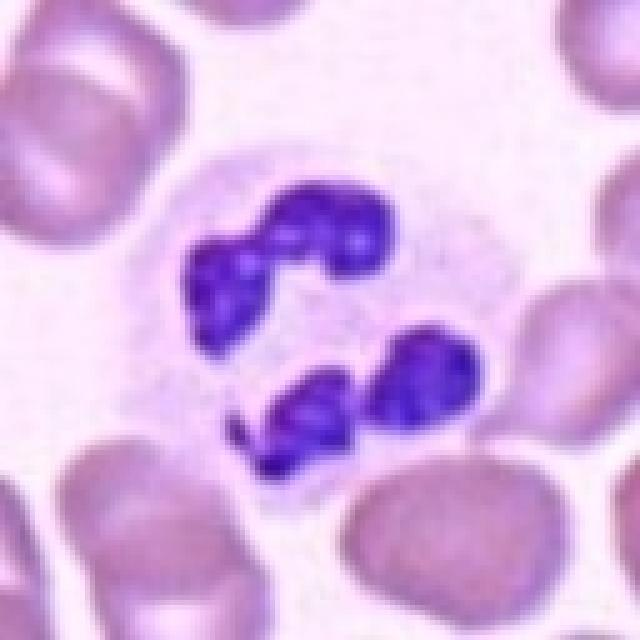neutro: (45, 114, 511, 515)
